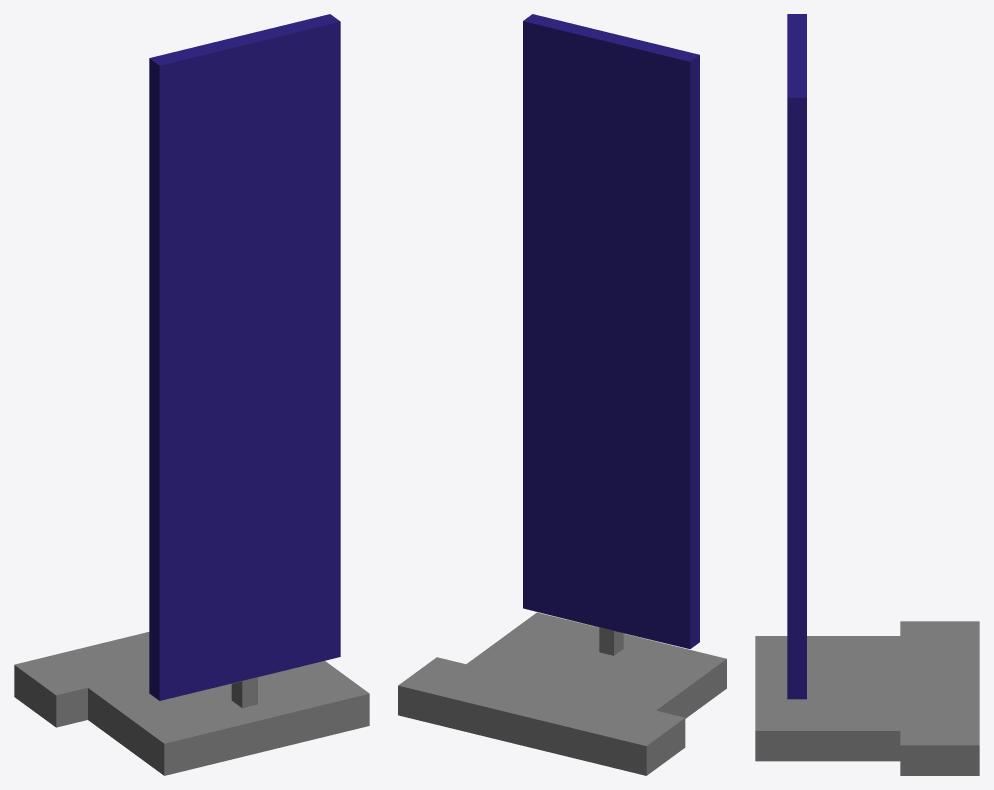
The model's file is starlink.glb.
The picture shows the model from 3 angles, left to right: view 1: azimuth 30°, elevation 25°; view 2: azimuth 150°, elevation 25°; view 3: azimuth 270°, elevation 25°; orthographic projection. The views are drawn at different scales.
Visible parts, largest first — view 1: Cube; view 2: Cube; view 3: Cube.
Part boxes in pixels (x1=…): Cube: x1=14, y1=14, x2=369, y2=775; Cube: x1=398, y1=14, x2=726, y2=775; Cube: x1=755, y1=14, x2=979, y2=775.
Bounding box in the file's own units: 2.62 × 6.47 × 2.
